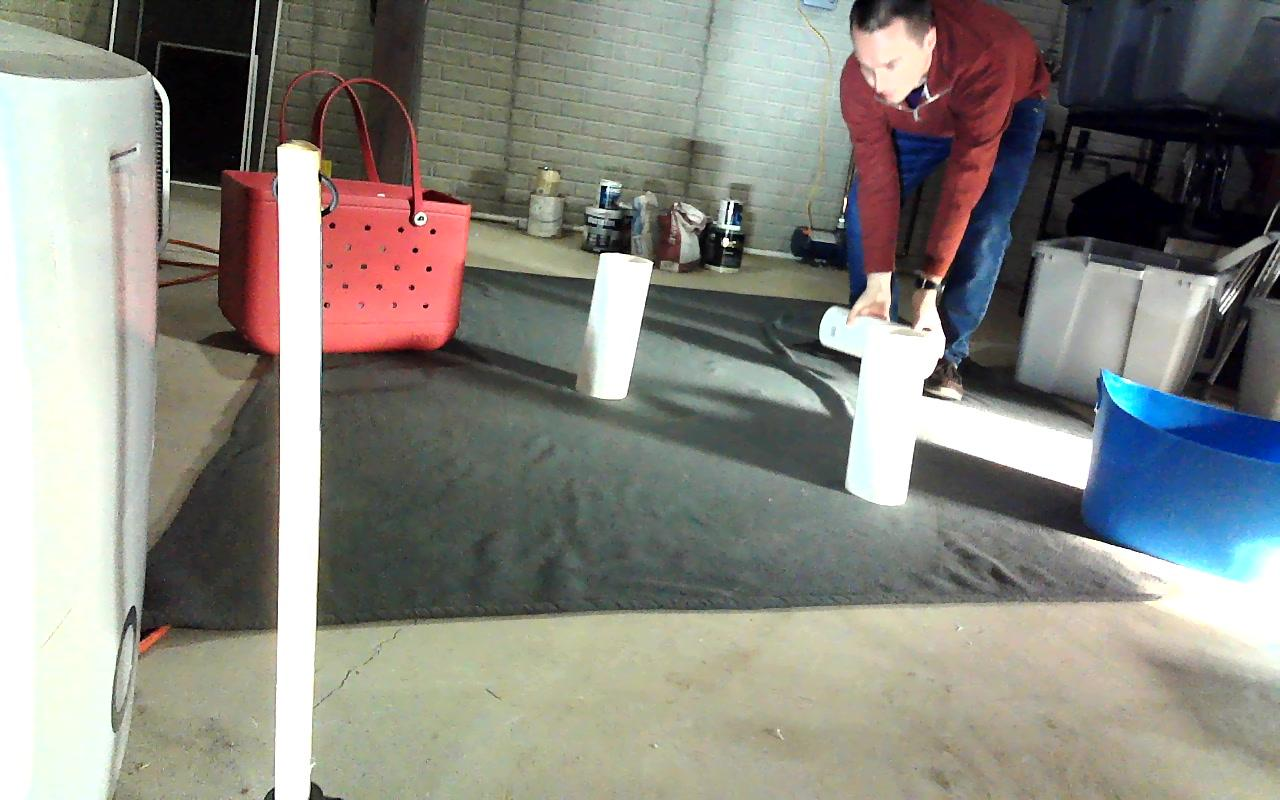coral: (843, 326, 930, 505), (575, 253, 653, 397)
